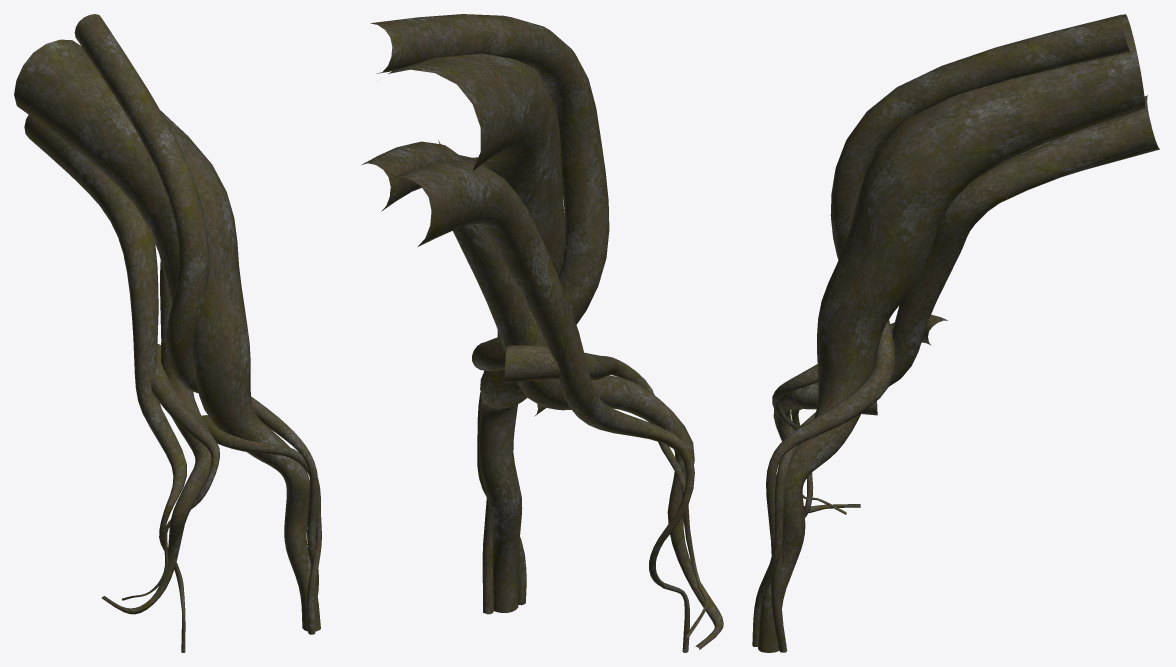
File: TELEMA_Tree_VeryLarge-transformed.glb
3 renders of one model, left to right at view 1: azimuth 30°, elevation 25°; view 2: azimuth 150°, elevation 25°; view 3: azimuth 270°, elevation 25°, orthographic. The views are drawn at different scales.
Parts seen in each view (by area): view 1: default; view 2: default; view 3: default.
Part boxes in pixels (<box>): default: <box>14,14,321,652</box>; default: <box>361,14,723,652</box>; default: <box>752,14,1159,652</box>.
Size of the model in its own units: 16.83 by 45.33 by 28.28.
Materials: 1 (1 with a texture image).
